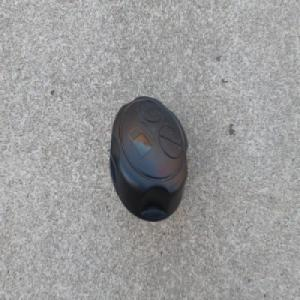FuelCap: (107, 94, 188, 223)
